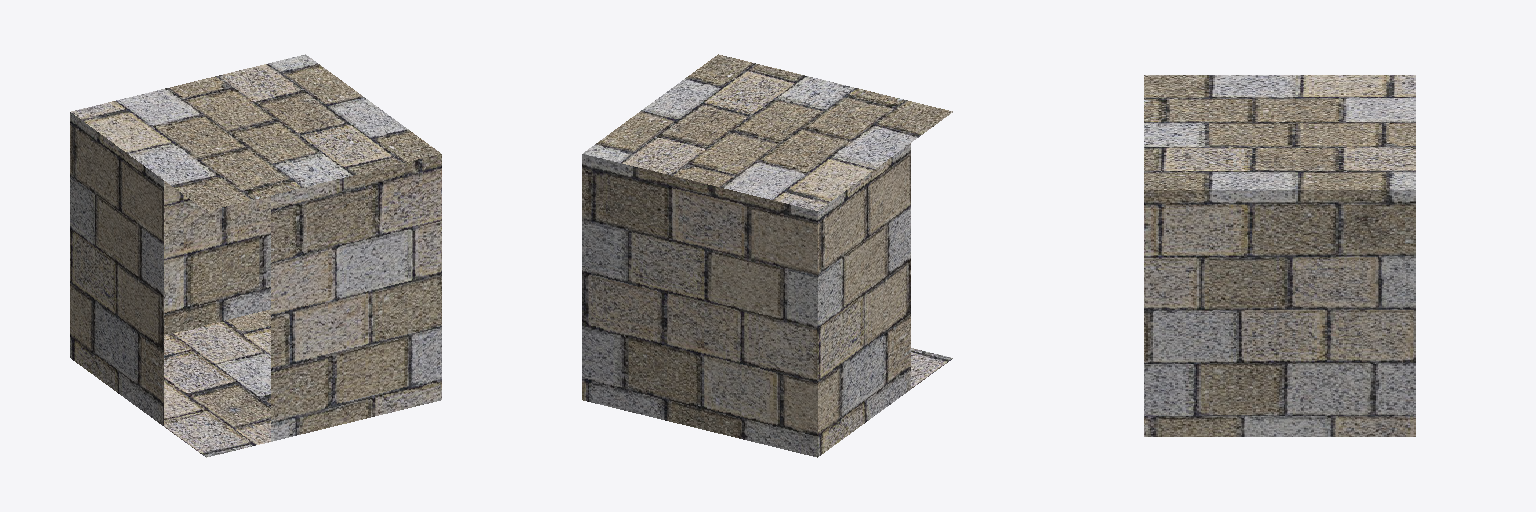
The picture shows the model from 3 angles: view 1: azimuth 30°, elevation 25°; view 2: azimuth 150°, elevation 25°; view 3: azimuth 270°, elevation 25°; orthographic projection.
Visible parts, largest first — view 1: Cube; view 2: Cube; view 3: Cube.
Part boxes in pixels (left/top/right/bottom): Cube: left=70, top=54, right=441, bottom=457; Cube: left=582, top=54, right=952, bottom=457; Cube: left=1144, top=75, right=1415, bottom=436.
Bounding box in the file's own units: 2 × 2 × 2.
Materials: 1 (1 with a texture image).